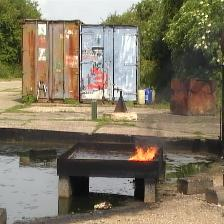fire: (128, 145, 159, 161)
